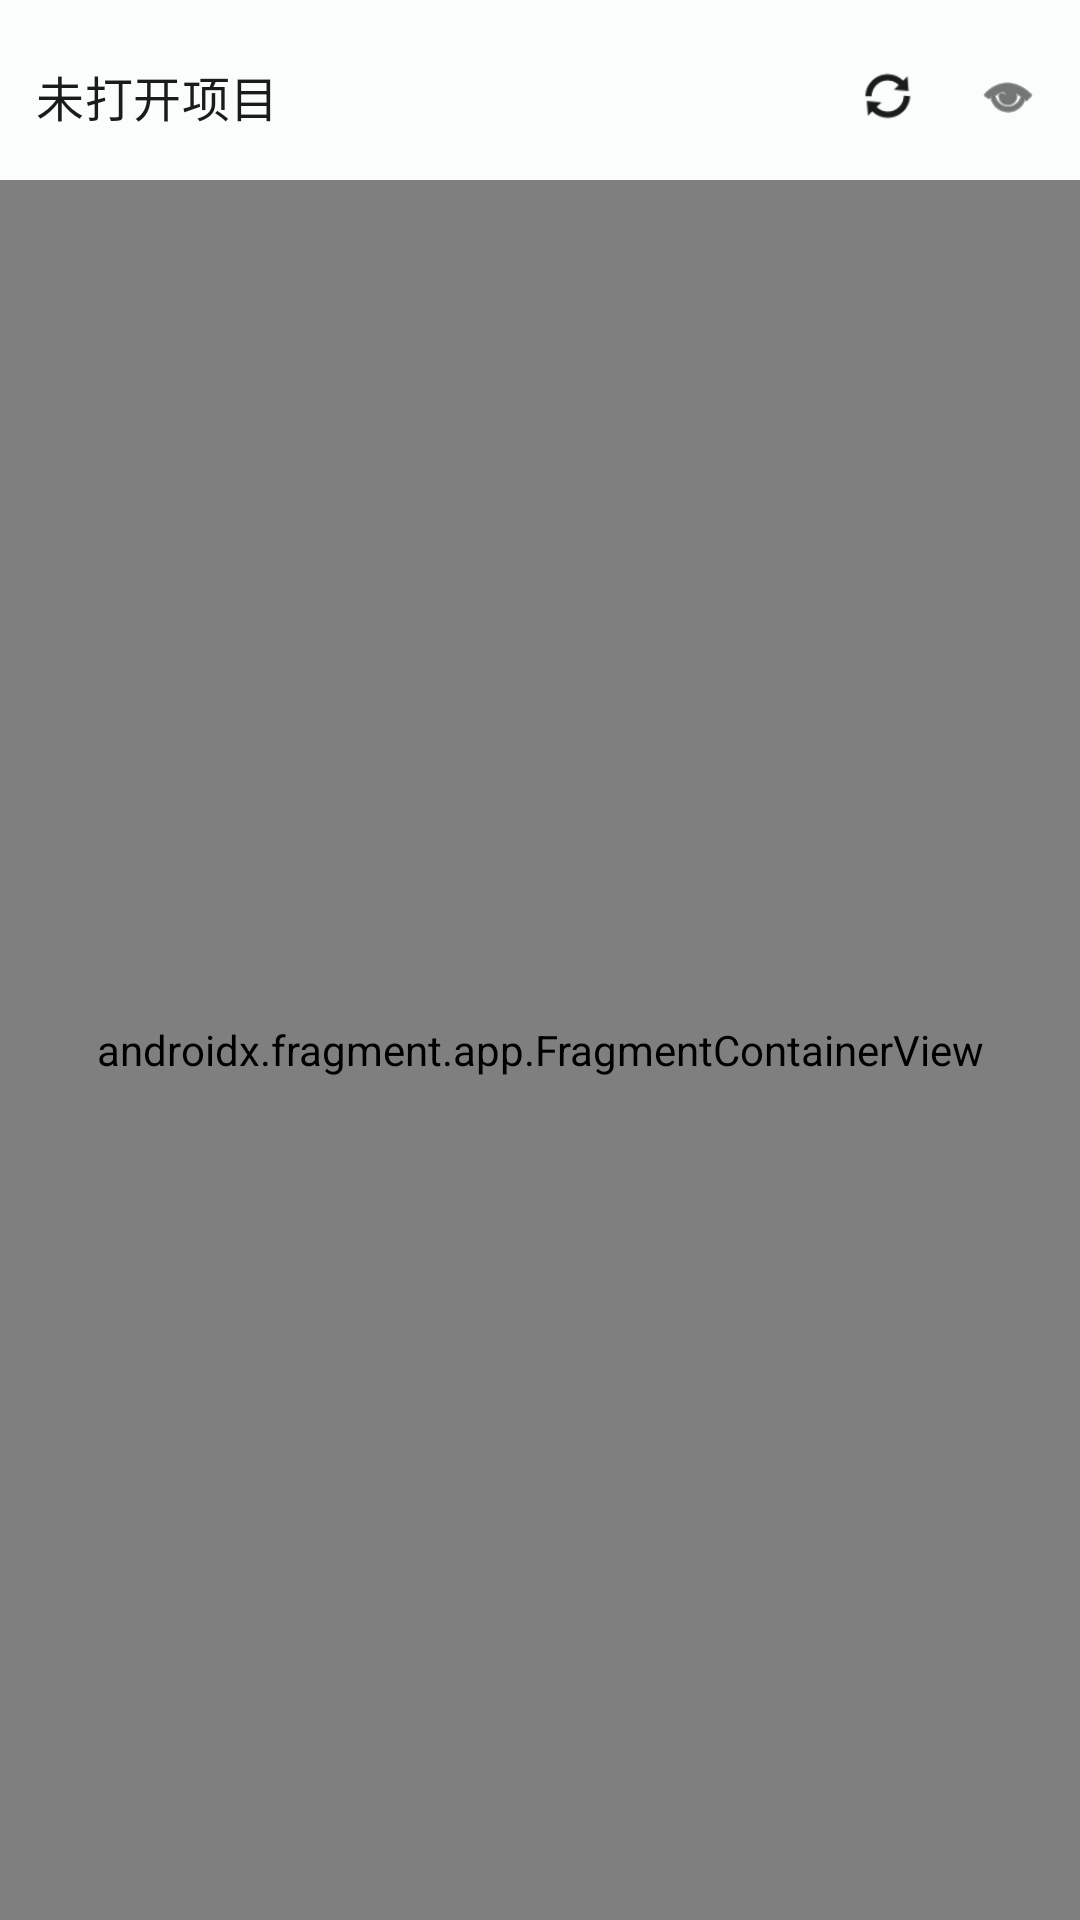

Icon bounding boxes for this 1080w x 1920h phone screenshot, format [x1, y1, x2, y2]:
刷新: [865, 73, 911, 119]
查看: [984, 82, 1032, 113]
